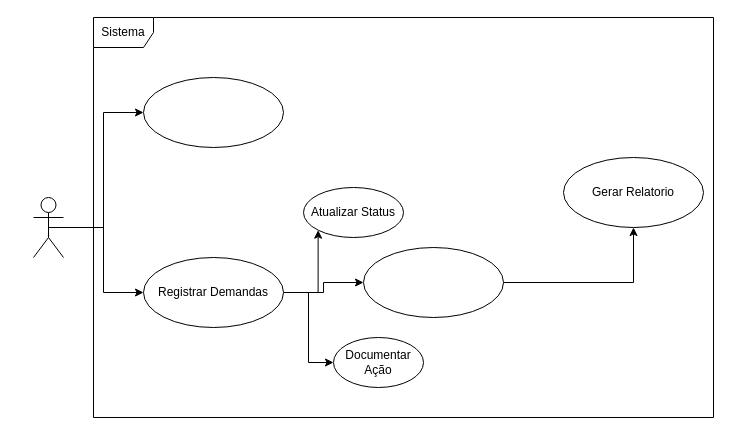
Some shapes in this 731 by 435 pixel diagram are drawn without their labels. The box of each missing label's shape, as (x1, y1, x2, y2) in pixels:
CRUD Provedor: (142, 76, 284, 148)
Funcionario: (32, 196, 64, 258)
Visualizar Historico de Demanda: (362, 246, 504, 318)
